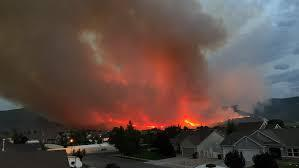fire: (140, 111, 220, 133)
